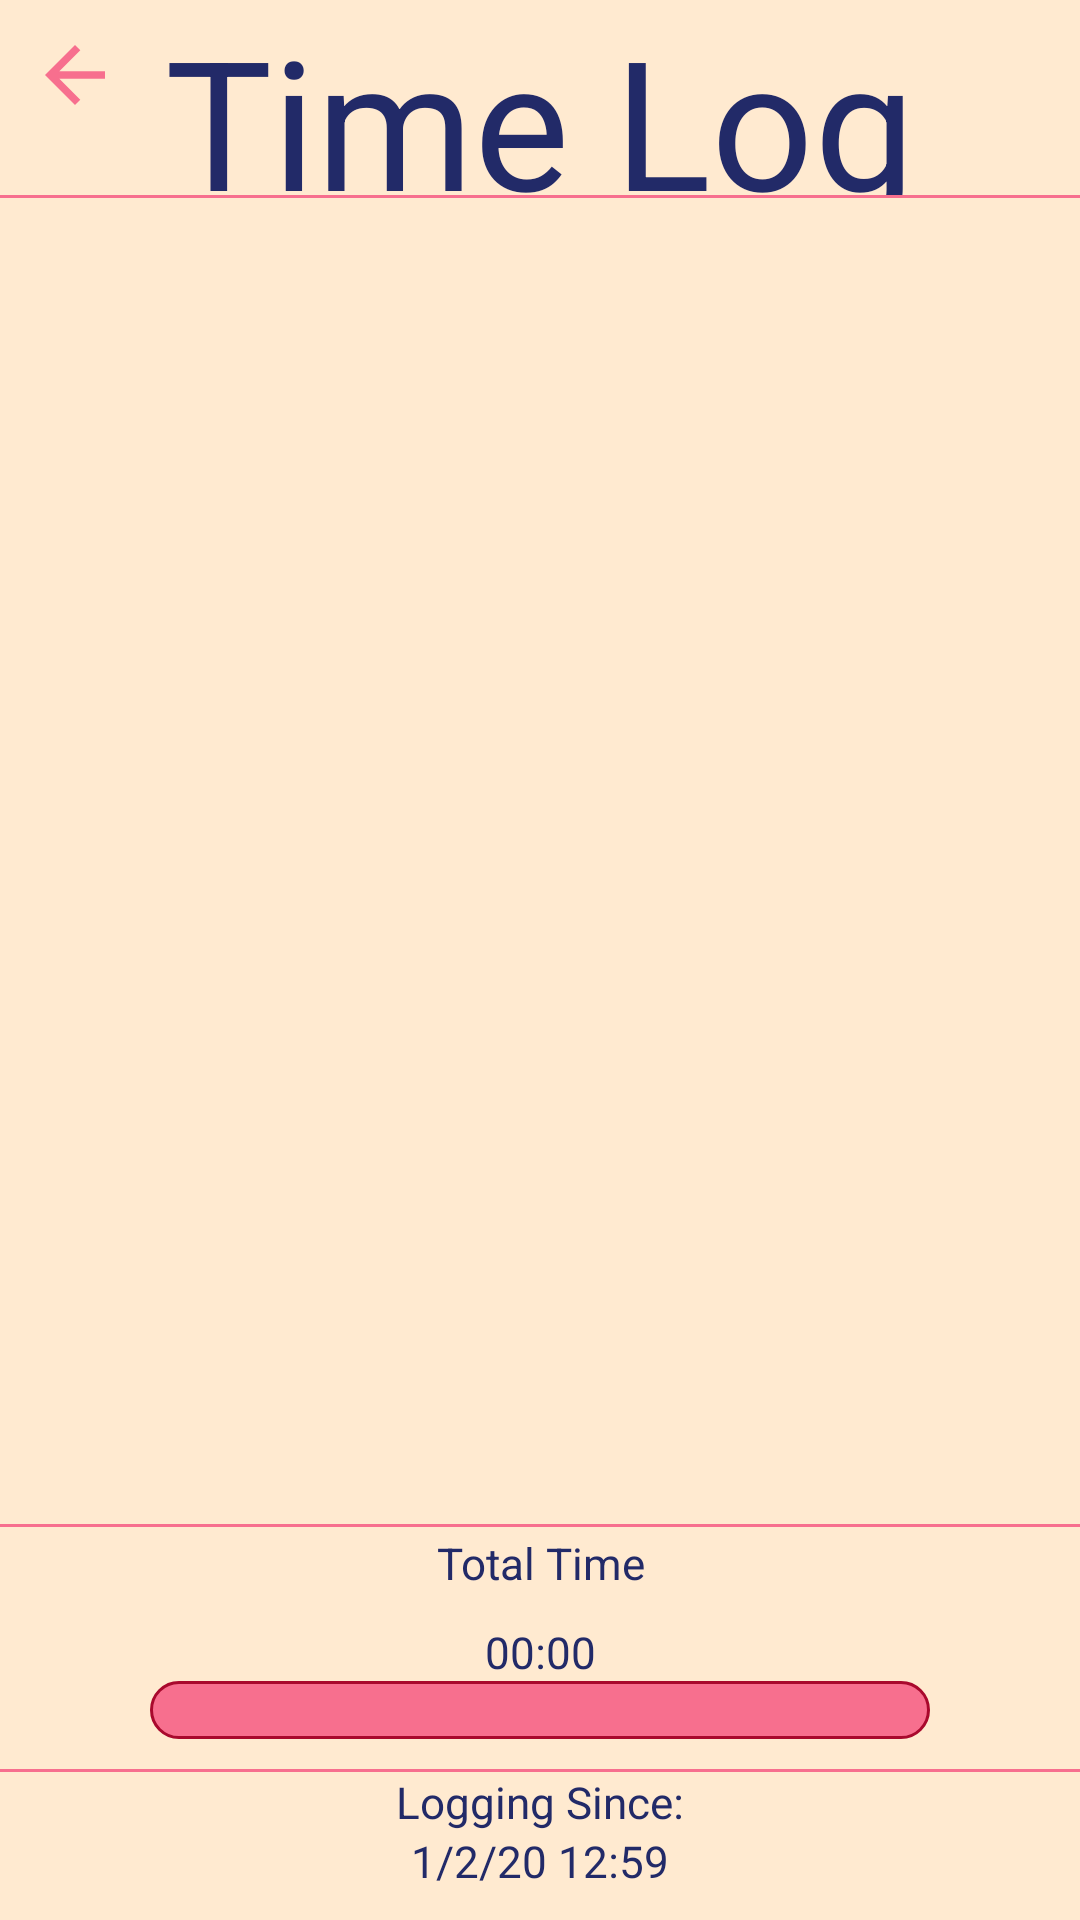

Where icons sit on this 1080px×1920px app screen, as (x1, y1, x2, y2):
back arrow ultra: (45, 45, 105, 105)
